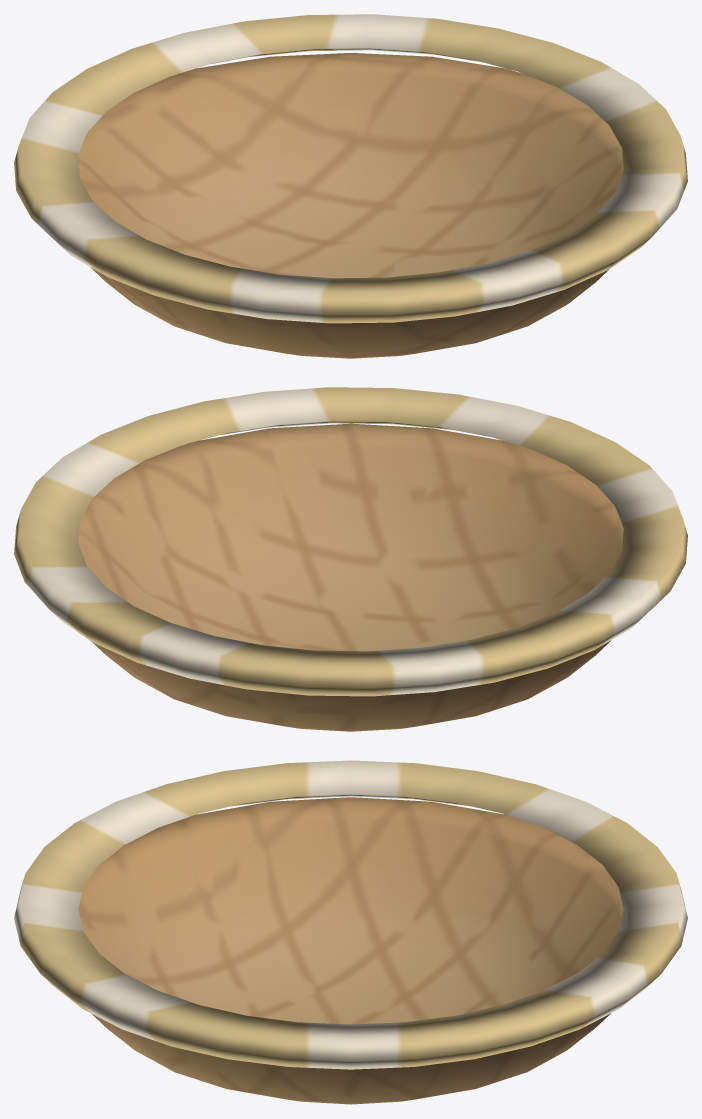
File: Sifter.fbx
The picture shows the model from 3 angles, top to bottom: view 1: azimuth 30°, elevation 25°; view 2: azimuth 150°, elevation 25°; view 3: azimuth 270°, elevation 25°; orthographic projection.
Parts seen in each view (by area): view 1: Sifter; view 2: Sifter; view 3: Sifter.
Boxes of the visible parts, <box> form: Sifter: <box>14,14,687,358</box>; Sifter: <box>14,387,687,731</box>; Sifter: <box>14,760,687,1104</box>.
Size of the model in its own units: 116 by 28.83 by 116.
Materials: 1 (1 with a texture image).
